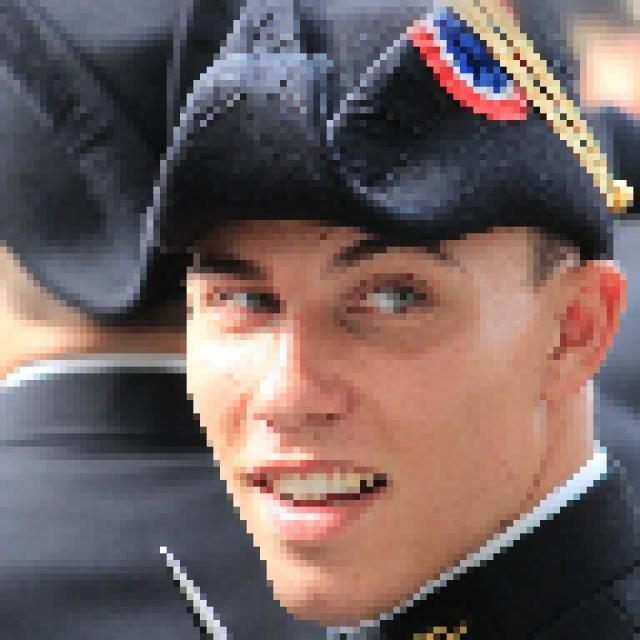happy: (161, 125, 568, 640)
